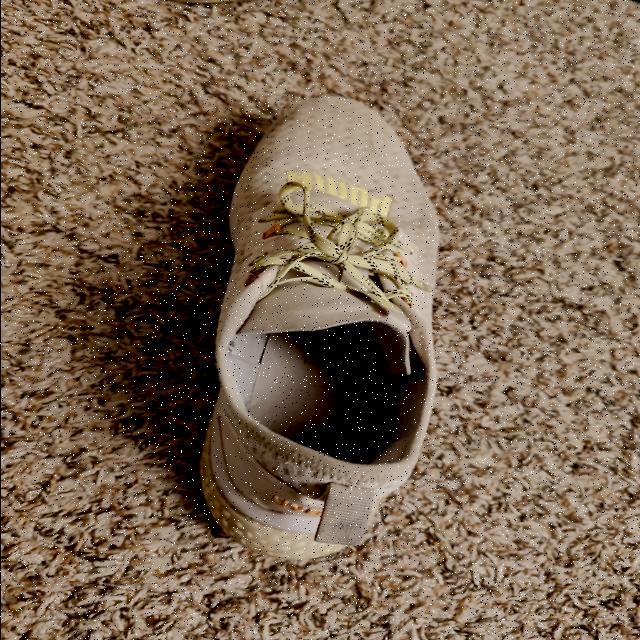white shoes: (208, 99, 422, 560)
